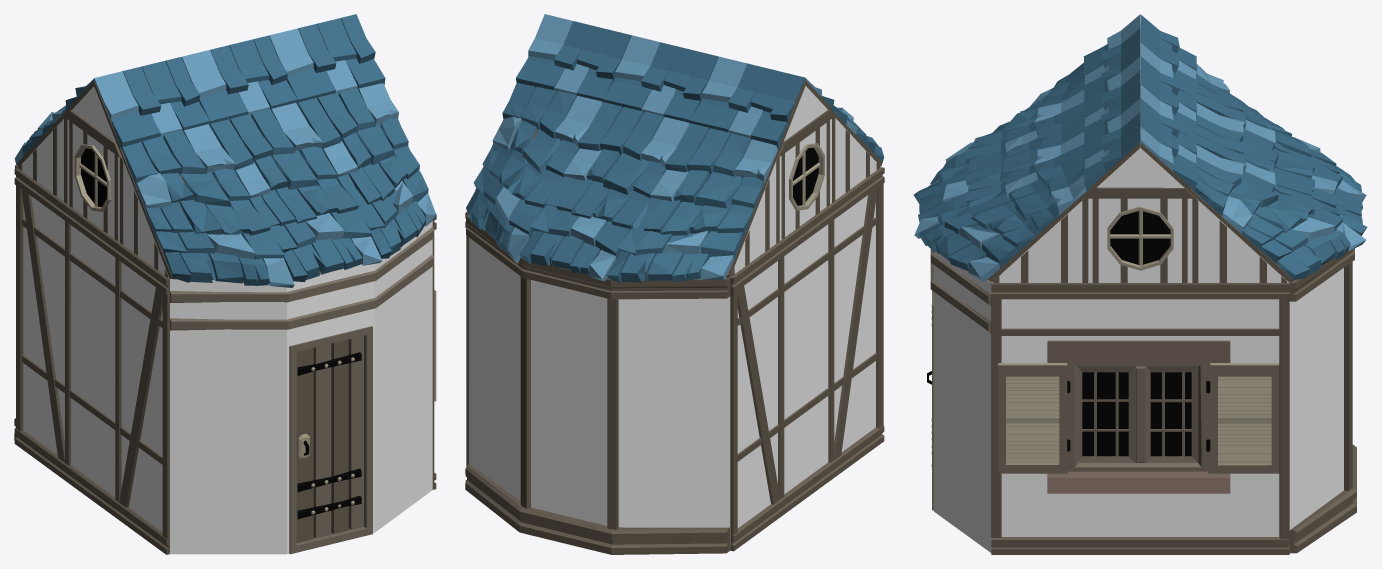
File: house_15_full.glb
3 views of the same model, side by side, from view 1: azimuth 30°, elevation 25°; view 2: azimuth 150°, elevation 25°; view 3: azimuth 270°, elevation 25° (orthographic).
Visible parts, largest first — view 1: DOOR_06_Balkon_2, ROOF_base_round_2, WALL_02_2, ROOF_base_small_4, ROOF_base_small_6, ROOF_base_small_5, ROOF_Window_round_3, ROOF_trinagle_right_wood_3, ROOF_trinagle_left_wood_3, ROOF_triangles_up_wood_4, WINDOW_06_2, ROOF_base_round_3; view 2: WINDOW_01_Balkon_2, ROOF_base_round_3, WALL_02_2, ROOF_base_small_9, ROOF_base_small_8, ROOF_base_small_7, ROOF_Window_round_3, ROOF_trinagle_right_wood_3, ROOF_trinagle_left_wood_3, ROOF_triangles_up_wood_4, ROOF_base_round_2, WINDOW_06_2; view 3: WINDOW_06_2, ROOF_base_round_2, ROOF_base_round_3, WINDOW_01_Balkon_2, DOOR_06_Balkon_2, ROOF_Window_round_2, ROOF_trinagle_left_wood_2, ROOF_trinagle_right_wood_2, ROOF_base_small_8, ROOF_base_small_6, ROOF_triangles_up_wood_3, ROOF_base_small_9 (+3 smaller).
Boxes of the visible parts, <box> form: DOOR_06_Balkon_2: <box>170,221,434,554</box>; ROOF_base_round_2: <box>119,83,436,287</box>; WALL_02_2: <box>14,168,169,554</box>; ROOF_base_small_4: <box>94,57,209,150</box>; ROOF_base_small_6: <box>269,14,385,105</box>; ROOF_base_small_5: <box>182,35,297,126</box>; ROOF_Window_round_3: <box>68,120,119,241</box>; ROOF_trinagle_right_wood_3: <box>119,157,169,278</box>; ROOF_trinagle_left_wood_3: <box>18,117,68,204</box>; ROOF_triangles_up_wood_4: <box>63,86,121,157</box>; WINDOW_06_2: <box>432,214,436,489</box>; ROOF_base_round_3: <box>14,105,68,167</box>; WINDOW_01_Balkon_2: <box>465,214,730,554</box>; ROOF_base_round_3: <box>466,82,780,282</box>; WALL_02_2: <box>730,167,884,551</box>; ROOF_base_small_9: <box>690,56,805,149</box>; ROOF_base_small_8: <box>516,14,630,102</box>; ROOF_base_small_7: <box>603,35,717,123</box>; ROOF_Window_round_3: <box>780,120,830,239</box>; ROOF_trinagle_right_wood_3: <box>830,117,880,203</box>; ROOF_trinagle_left_wood_3: <box>730,156,780,277</box>; ROOF_triangles_up_wood_4: <box>777,86,835,156</box>; ROOF_base_round_2: <box>831,105,884,166</box>; WINDOW_06_2: <box>465,212,468,481</box>; WINDOW_06_2: <box>991,283,1289,554</box>; ROOF_base_round_2: <box>913,63,1090,282</box>; ROOF_base_round_3: <box>1190,64,1367,282</box>; WINDOW_01_Balkon_2: <box>1289,248,1356,553</box>; DOOR_06_Balkon_2: <box>927,249,991,552</box>; ROOF_Window_round_2: <box>1090,198,1190,283</box>; ROOF_trinagle_left_wood_2: <box>991,198,1090,282</box>; ROOF_trinagle_right_wood_2: <box>1190,198,1289,282</box>; ROOF_base_small_8: <box>1140,98,1196,191</box>; ROOF_base_small_6: <box>1084,98,1140,191</box>; ROOF_triangles_up_wood_3: <box>1084,145,1195,198</box>; ROOF_base_small_9: <box>1140,14,1197,99</box>.
Size of the model in its own units: 3.22 by 4.59 by 4.57.
Materials: 1 (1 with a texture image).
